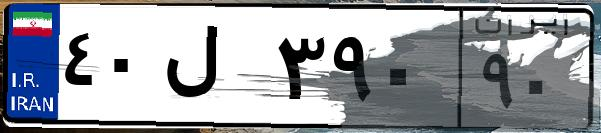0: (385, 28, 445, 110), (525, 38, 570, 115), (110, 28, 158, 98)
3: (270, 28, 330, 110)
4: (57, 26, 110, 100)
9: (330, 28, 385, 110), (475, 38, 525, 113)
ل: (158, 20, 270, 120)
